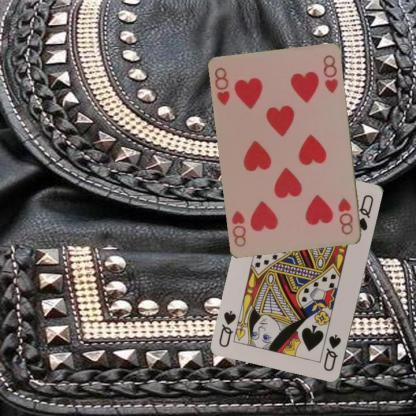8h: (212, 65, 232, 107), (336, 196, 354, 236)
Qs: (321, 332, 343, 373)
